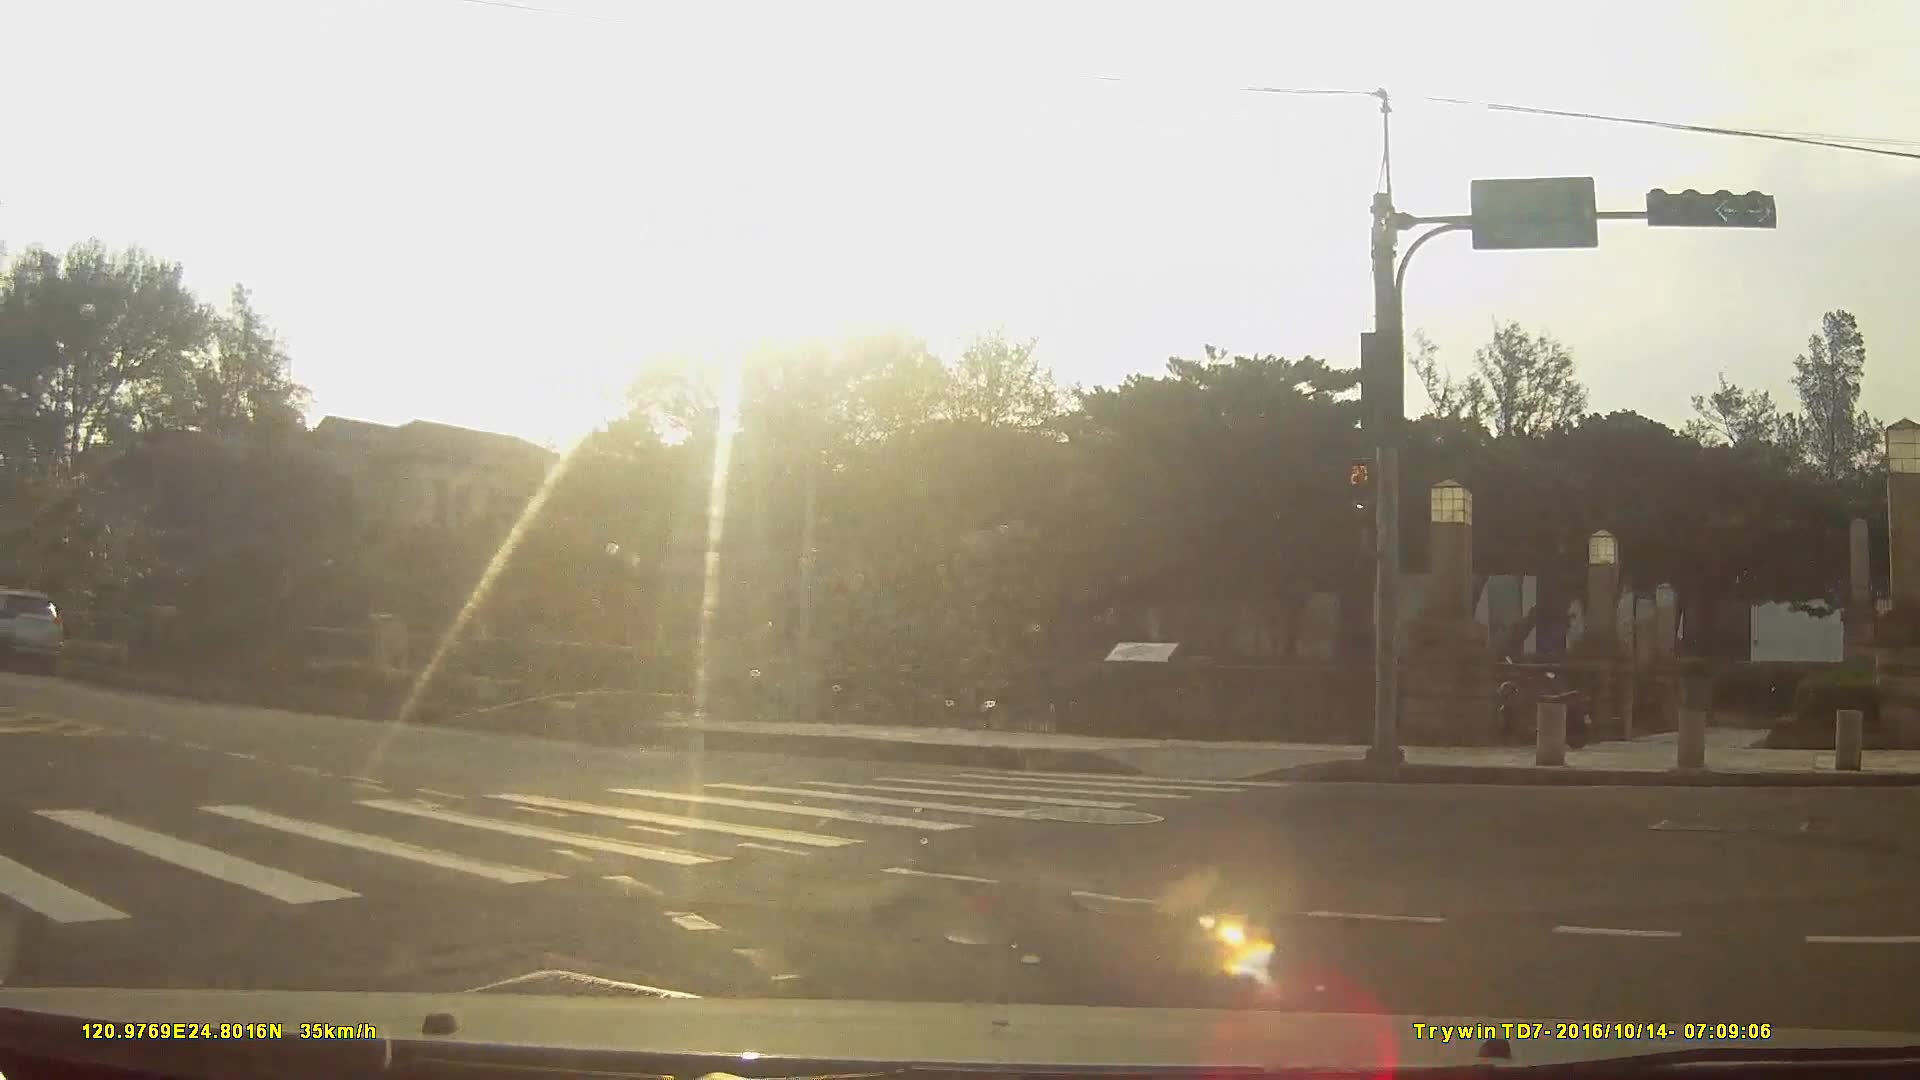vehicle: (0, 585, 65, 675)
